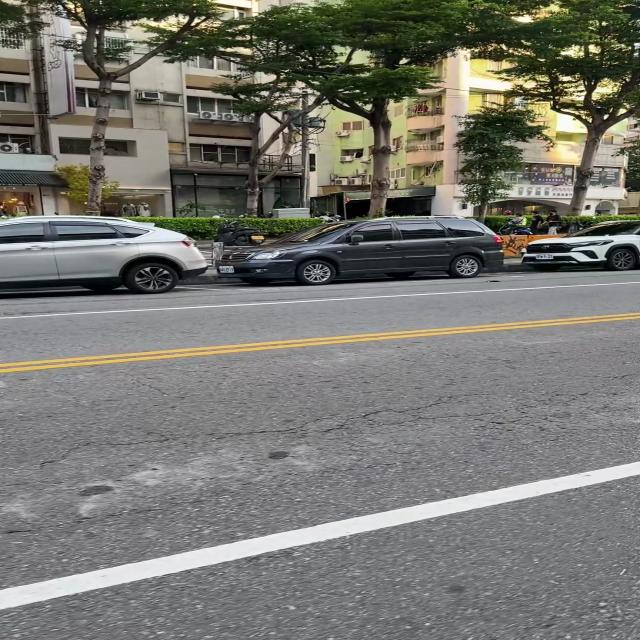car: (218, 216, 501, 285), (0, 215, 207, 294), (523, 221, 640, 271)
